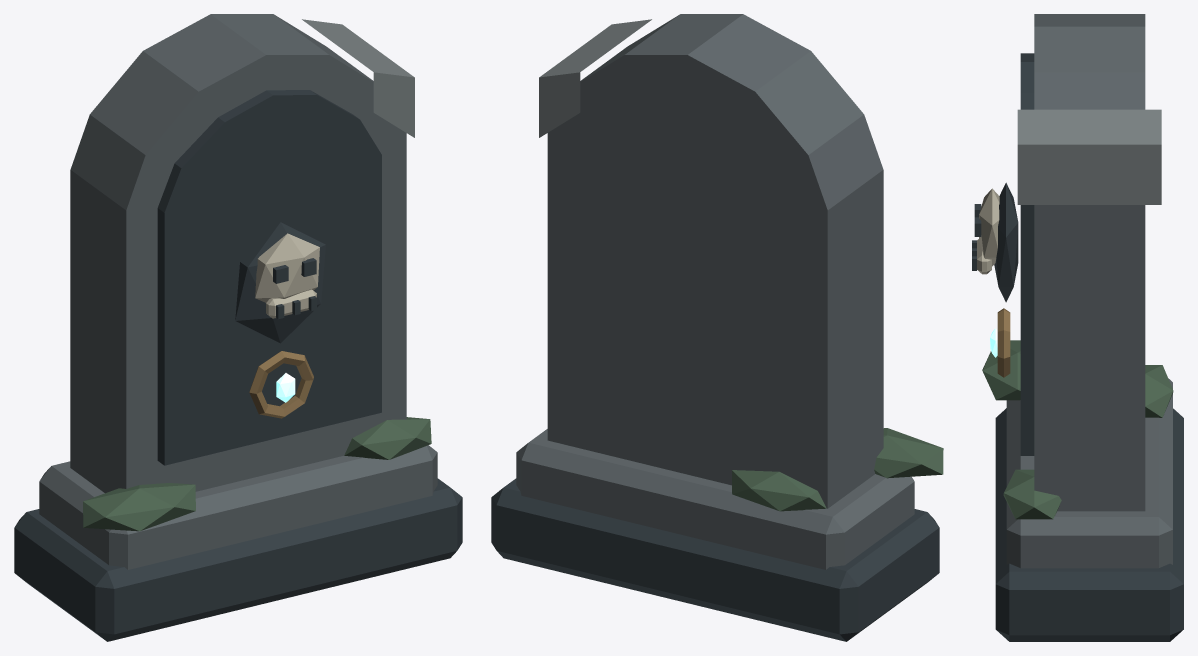
The model's file is warden_gravestone.glb.
3 views of the same model, side by side, from view 1: azimuth 30°, elevation 25°; view 2: azimuth 150°, elevation 25°; view 3: azimuth 270°, elevation 25° (orthographic).
Visible parts, largest first — view 1: warden_gravestone; view 2: warden_gravestone; view 3: warden_gravestone.
Part boxes in pixels (bbox=[...]): warden_gravestone: bbox=[14, 14, 462, 641]; warden_gravestone: bbox=[491, 14, 943, 641]; warden_gravestone: bbox=[972, 14, 1183, 641].
Size of the model in its own units: 0.7763 by 1.06 by 0.3825.
